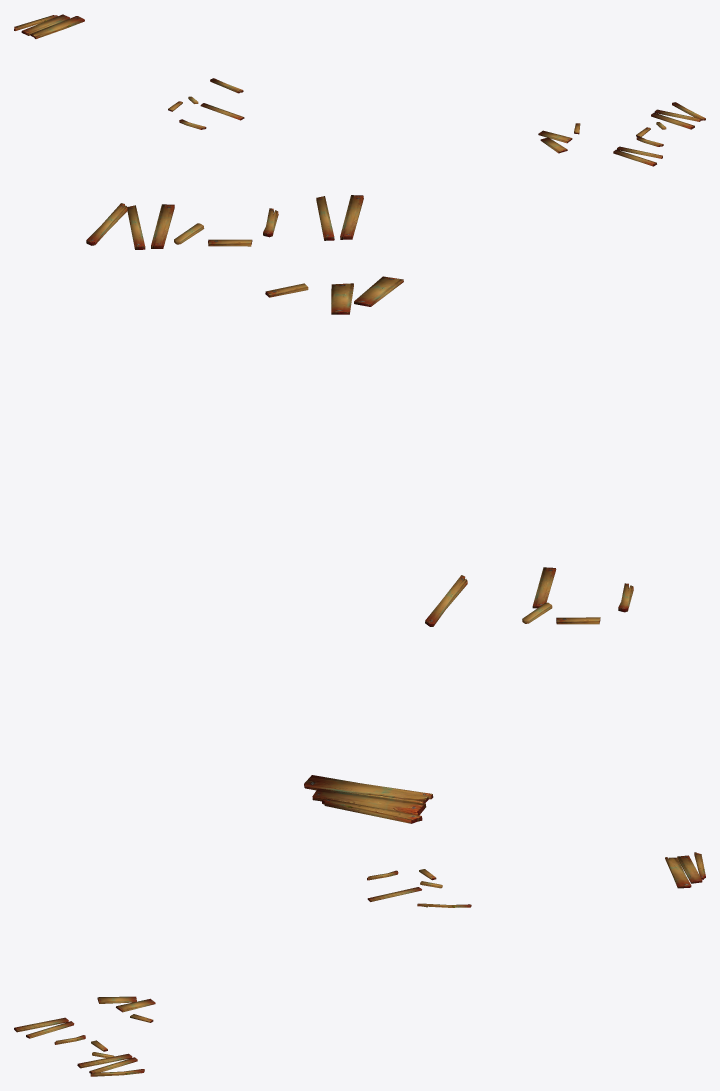
The model's file is muban07.FBX.
3 renders of one model, top to bottom at view 1: azimuth 30°, elevation 25°; view 2: azimuth 150°, elevation 25°; view 3: azimuth 270°, elevation 25°, orthographic. The views are drawn at different scales.
Parts seen in each view (by area): view 1: Object039; view 2: Object039; view 3: Object039.
Boxes of the visible parts, x1,y1,x2,y2 form: Object039: [14, 14, 705, 166]; Object039: [86, 195, 633, 823]; Object039: [14, 852, 705, 1076].
Bounding box in the file's own units: 159205 × 3971 × 202749.
